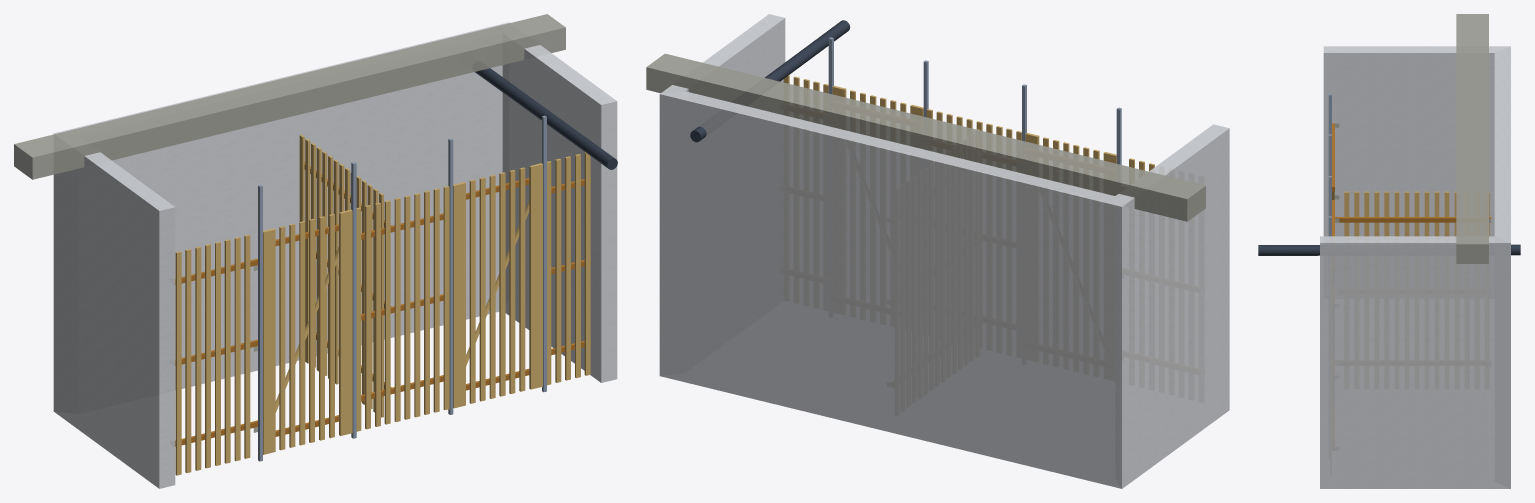
File: ks-studio-2026-05-07-1325.glb
3 renders of one model, left to right at view 1: azimuth 30°, elevation 25°; view 2: azimuth 150°, elevation 25°; view 3: azimuth 270°, elevation 25°, orthographic. The views are drawn at different scales.
Parts seen in each view (by area): view 1: wall-core-mitered (×3), Globale Hindernisse, right-side-stile (×2), left-side-stile (×2), vertical-slat-2 (×4), ks-studio-project-3d, vertical-slat-5 (×4), vertical-slat-4 (×4), vertical-slat-3 (×3), vertical-slat-7 (×3), vertical-slat-1 (×3), vertical-slat-6 (×2) (+11 smaller); view 2: wall-core-mitered (×3), Globale Hindernisse, ks-studio-project-3d; view 3: wall-core-mitered (×3), Globale Hindernisse, top-crosslat, ks-studio-project-3d.
Part boxes in pixels (x1,y1,x2,y2): wall-core-mitered (×3): (53, 22, 617, 488); Globale Hindernisse: (14, 14, 617, 179); right-side-stile (×2): (339, 163, 542, 435); left-side-stile (×2): (263, 182, 465, 454); vertical-slat-2 (×4): (185, 139, 561, 472); ks-studio-project-3d: (258, 115, 546, 461); vertical-slat-5 (×4): (215, 151, 590, 465); vertical-slat-4 (×4): (205, 147, 580, 468); vertical-slat-3 (×3): (195, 156, 570, 470); vertical-slat-7 (×3): (234, 159, 420, 461); vertical-slat-1 (×3): (175, 161, 551, 475); vertical-slat-6 (×2): (224, 195, 410, 463); wall-core-mitered (×3): (659, 14, 1229, 488); Globale Hindernisse: (646, 20, 1205, 221); ks-studio-project-3d: (828, 37, 1121, 164); wall-core-mitered (×3): (1320, 46, 1510, 488); Globale Hindernisse: (1258, 14, 1520, 263); top-crosslat: (1335, 217, 1491, 222); ks-studio-project-3d: (1328, 93, 1331, 236).
Size of the model in its own units: 5.02 by 2.6 by 2.42.
Materials: 141 (3 with a texture image).
